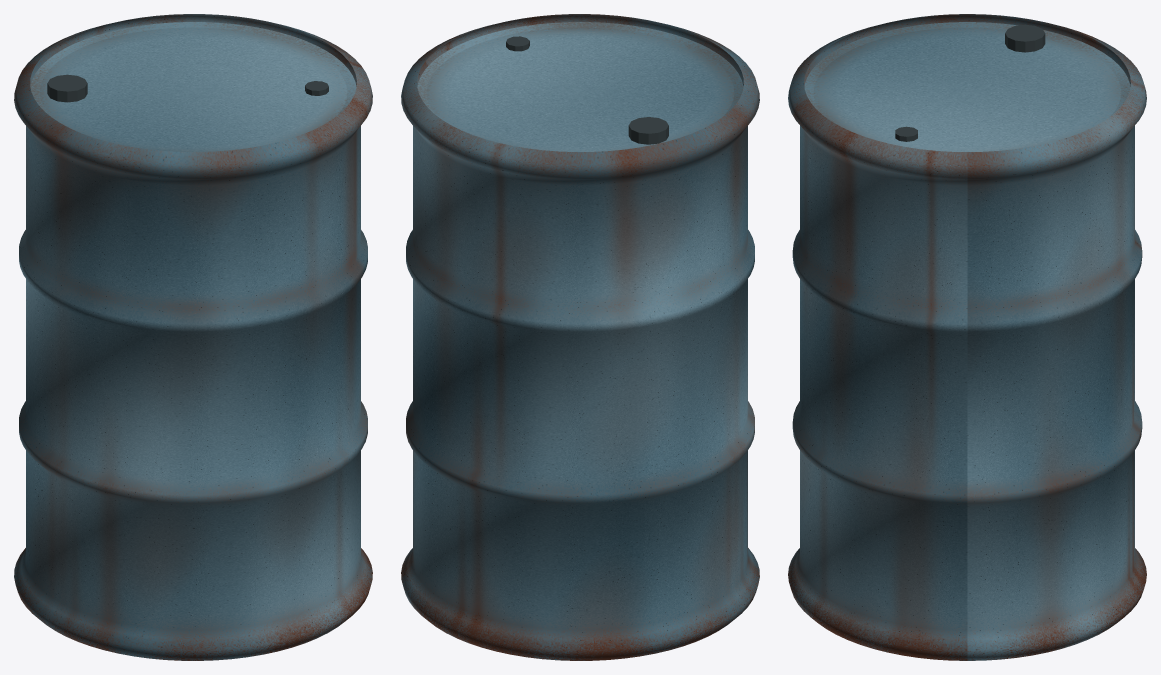
File: FuelDrum_B.glb
3 renders of one model, left to right at view 1: azimuth 30°, elevation 25°; view 2: azimuth 150°, elevation 25°; view 3: azimuth 270°, elevation 25°, orthographic.
Visible parts, largest first — view 1: FuelDrum_B; view 2: FuelDrum_B; view 3: FuelDrum_B.
Boxes of the visible parts, box(x1,y1,x2,y2) form: FuelDrum_B: box(14, 14, 372, 660); FuelDrum_B: box(401, 14, 759, 660); FuelDrum_B: box(788, 14, 1146, 660).
Size of the model in its own units: 2.24 by 3.54 by 2.24.
1 material, 1 textured.
